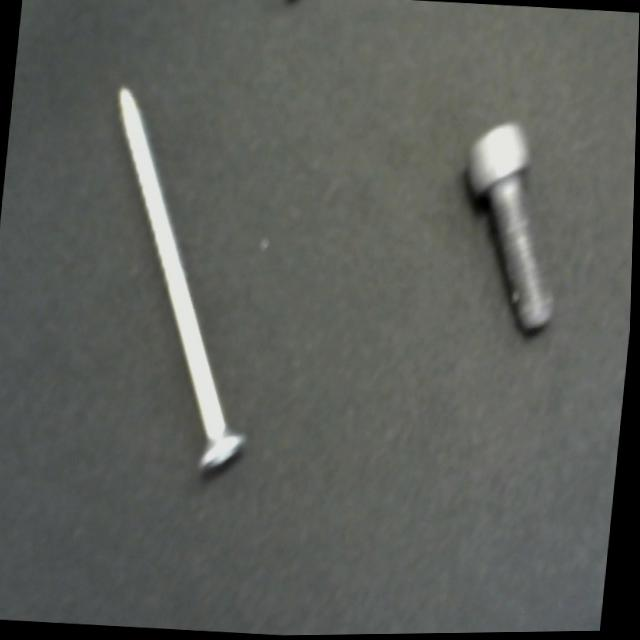SocketHeadCapScrew: (445, 104, 580, 359)
WoodScrew: (70, 66, 293, 500)
